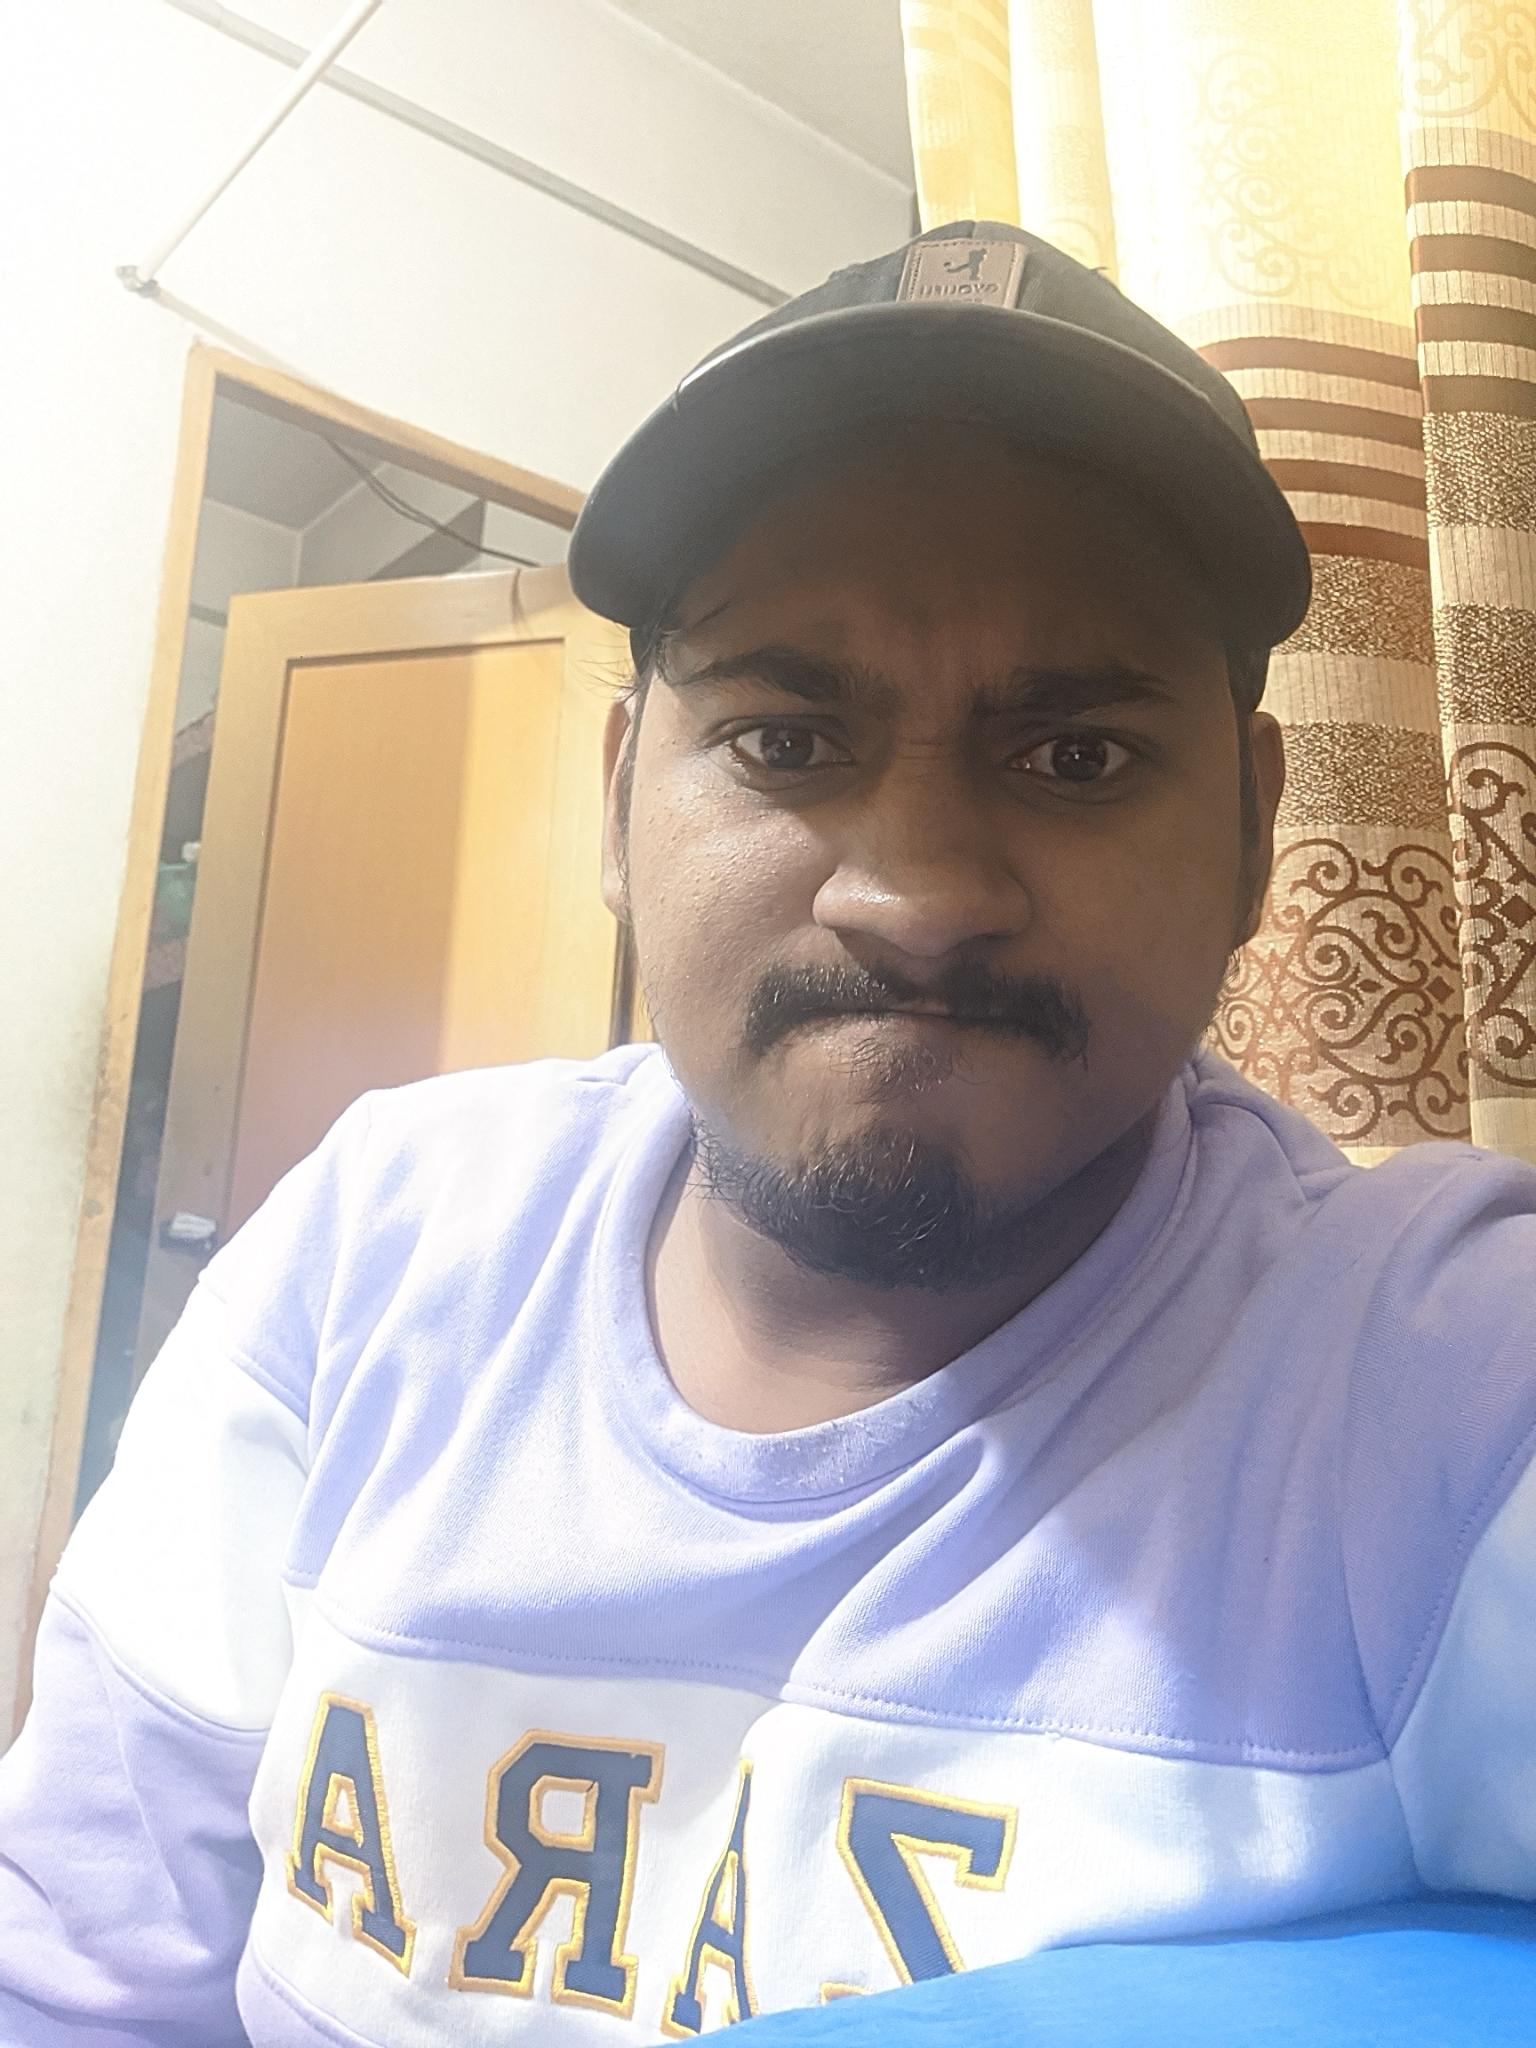Angry: (632, 502, 1234, 1272)
